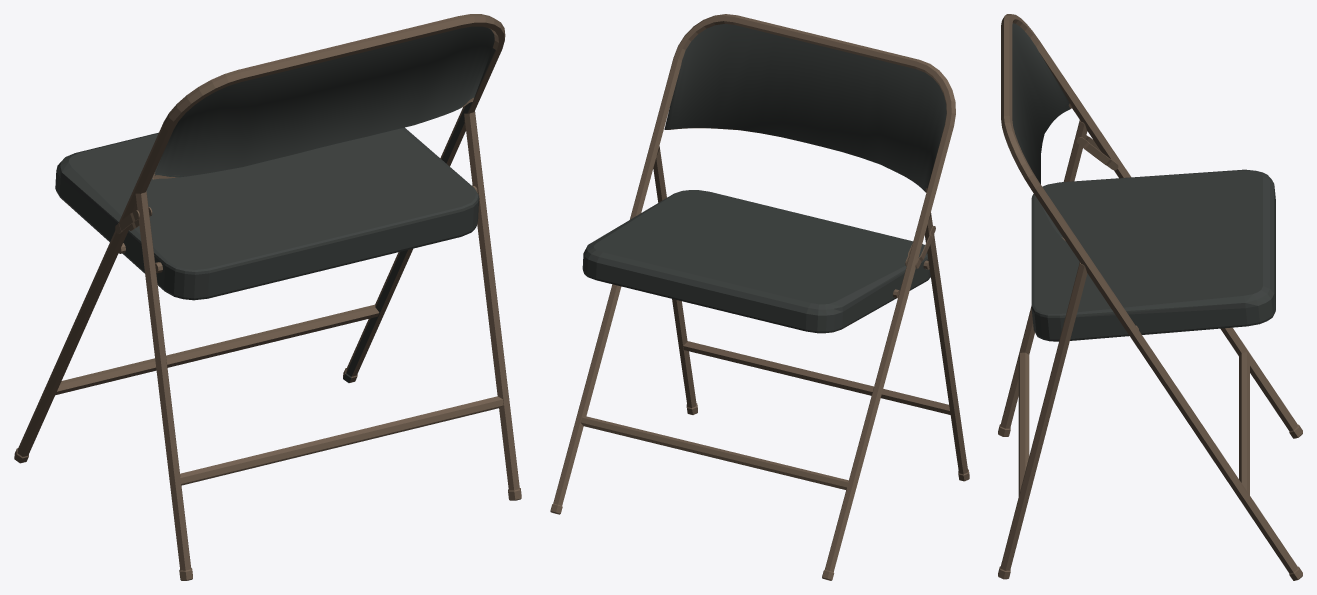
The model's file is chair.fbx.
3 renders of one model, left to right at view 1: azimuth 30°, elevation 25°; view 2: azimuth 150°, elevation 25°; view 3: azimuth 270°, elevation 25°, orthographic. The views are drawn at different scales.
Parts seen in each view (by area): view 1: metal_chair; view 2: metal_chair; view 3: metal_chair.
Part boxes in pixels (box(x1,y1,x2,y2)): metal_chair: box(14, 14, 521, 580); metal_chair: box(550, 14, 969, 580); metal_chair: box(998, 14, 1302, 580).
Bounding box in the file's own units: 27.28 × 37.79 × 23.7.
